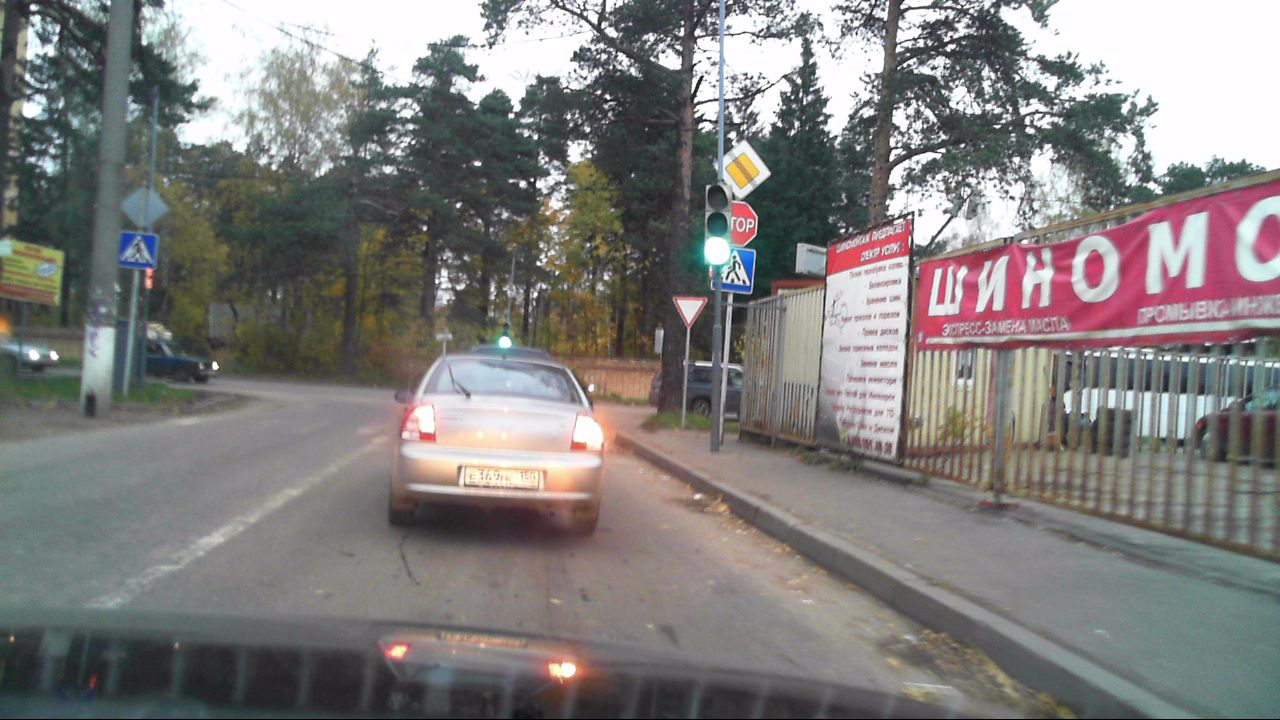main road: (712, 141, 769, 200)
